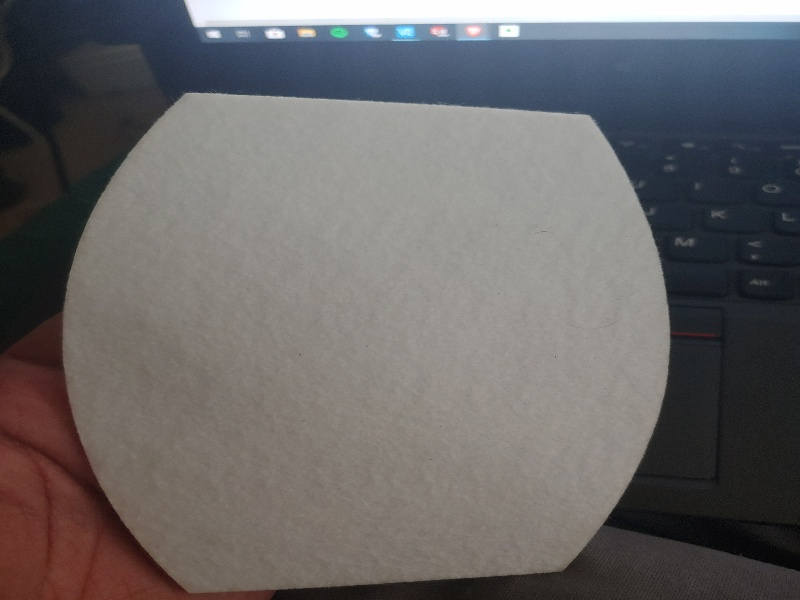Filter: (65, 93, 671, 593)
